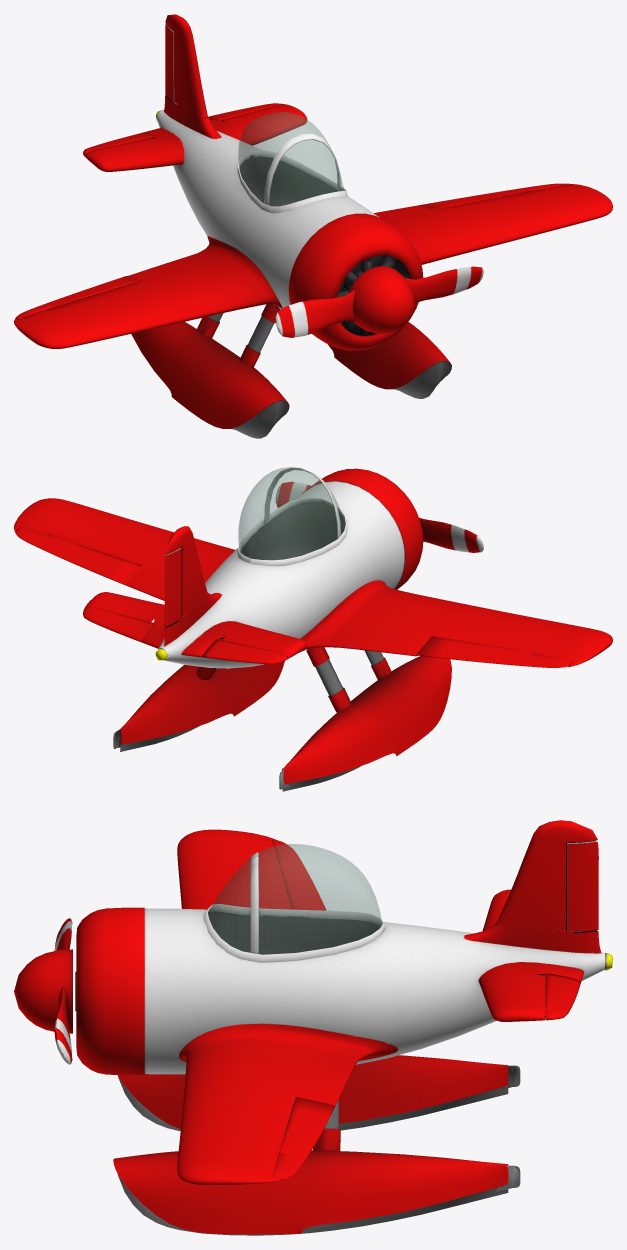
3 views of the same model, one above another, from view 1: azimuth 30°, elevation 25°; view 2: azimuth 150°, elevation 25°; view 3: azimuth 270°, elevation 25° (orthographic). The views are drawn at different scales.
Parts seen in each view (by area): view 1: Body, propeller1, canopi, aileron_R, aileron_L, rudder; view 2: Body, canopi, aileron_R, aileron_L, propeller1, tail_L1, rudder, tail_L; view 3: Body, canopi, propeller1, rudder, aileron_L, aileron_R, tail_L.
Part boxes in pixels (x1,y1,x2,y2): Body: (14, 14, 612, 438); propeller1: (275, 266, 483, 337); canopi: (238, 112, 343, 205); aileron_R: (15, 276, 141, 319); aileron_L: (418, 183, 570, 209); rudder: (165, 23, 175, 103); Body: (14, 467, 612, 791); canopi: (238, 467, 345, 559); aileron_R: (416, 636, 572, 667); aileron_L: (15, 527, 140, 585); propeller1: (275, 481, 483, 552); tail_L1: (202, 639, 287, 664); rudder: (164, 548, 181, 626); tail_L: (83, 606, 153, 642); Body: (75, 820, 612, 1235); canopi: (208, 844, 382, 954); propeller1: (14, 918, 72, 1064); rudder: (567, 841, 598, 931); aileron_L: (273, 1097, 335, 1179); aileron_R: (272, 839, 326, 910); tail_L: (545, 973, 580, 1020).
Size of the model in its own units: 9.98 by 4.85 by 7.2.
2 materials, 1 textured.
